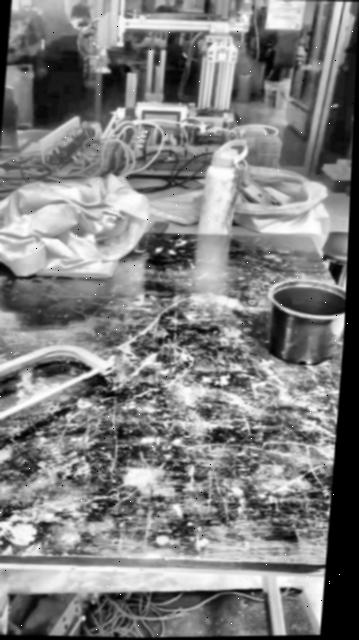pot: (261, 275, 347, 364)
